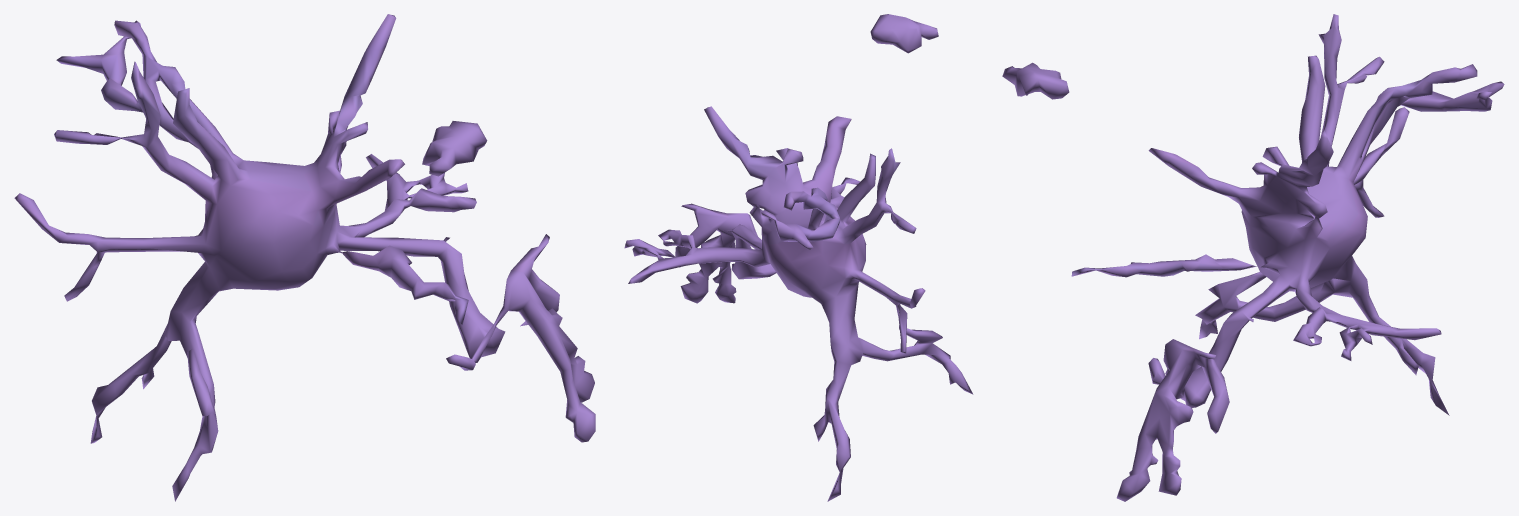
Rendered from Neuron.fbx.
3 views of the same model, side by side, from view 1: azimuth 30°, elevation 25°; view 2: azimuth 150°, elevation 25°; view 3: azimuth 270°, elevation 25° (orthographic). The views are drawn at different scales.
Parts seen in each view (by area): view 1: Neuron; view 2: Neuron; view 3: Neuron.
Part boxes in pixels (x1,y1,x2,y2): Neuron: [14, 14, 595, 501]; Neuron: [624, 14, 973, 501]; Neuron: [1002, 14, 1504, 501].
Size of the model in its own units: 4.77 by 4.55 by 5.08.
1 material, 1 textured.
